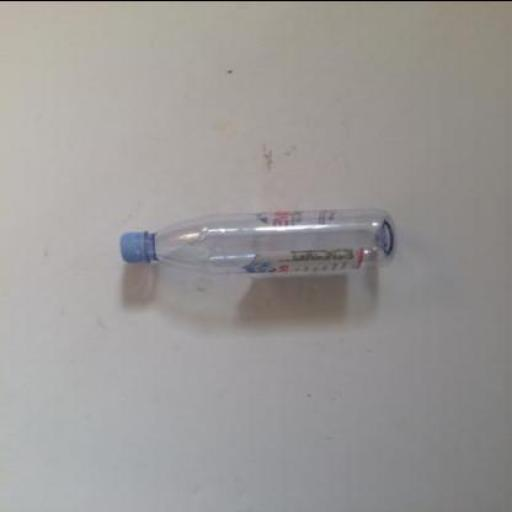plastic: (119, 205, 394, 271), (118, 227, 154, 263)
